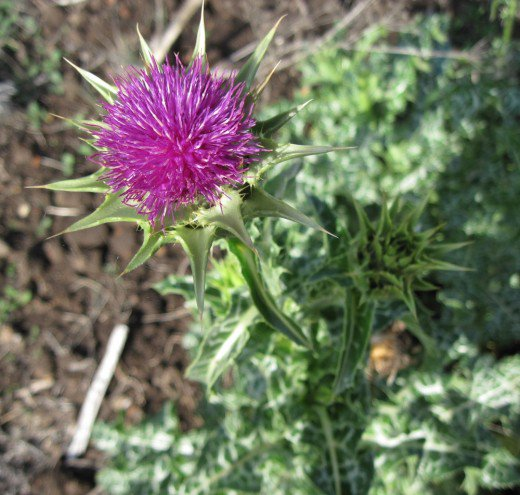thistle: (53, 13, 316, 274)
